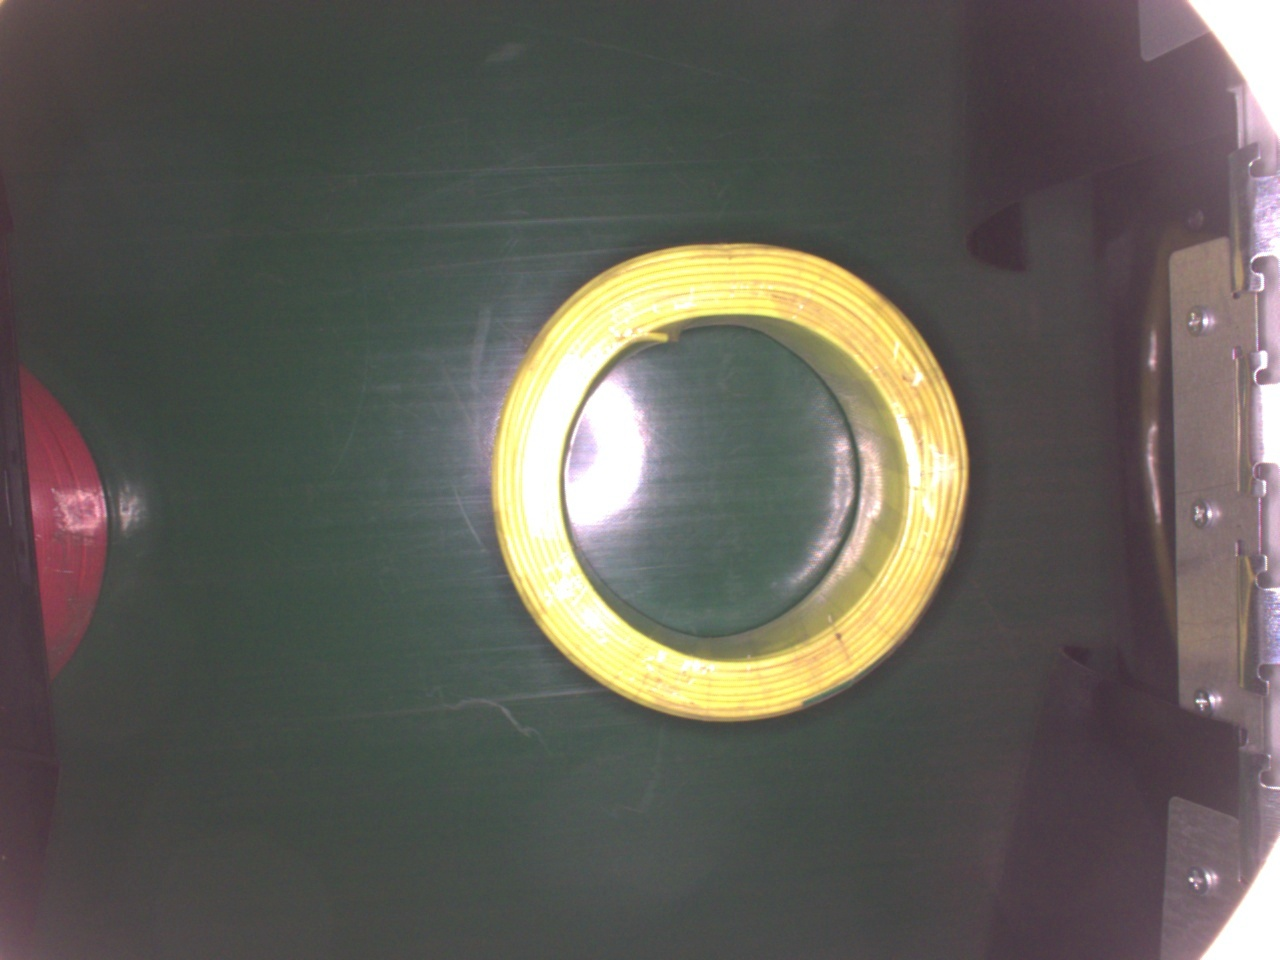yellow: (481, 231, 976, 720)
